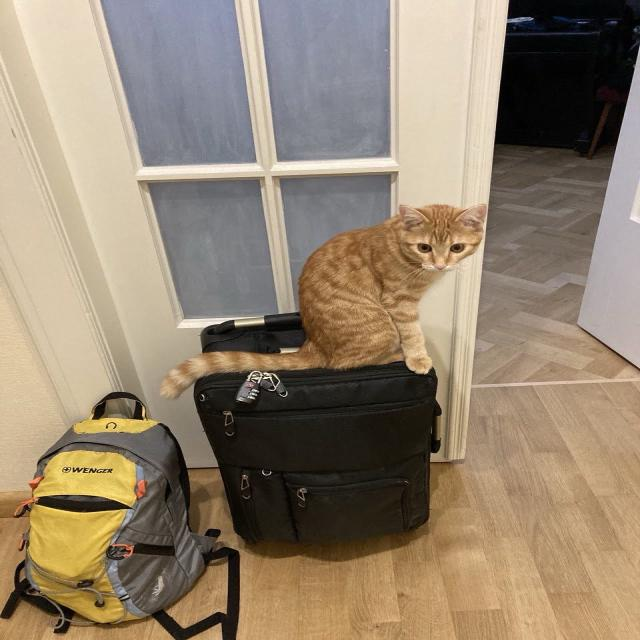red_cat: (267, 198, 493, 370)
